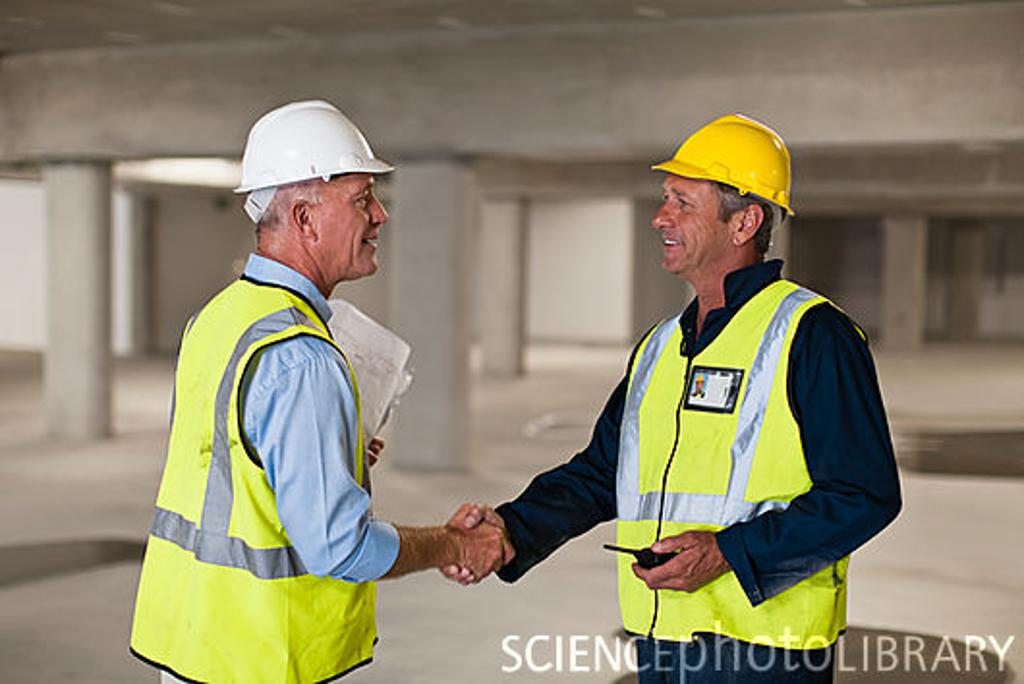face: (322, 146, 388, 276), (652, 164, 724, 272)
